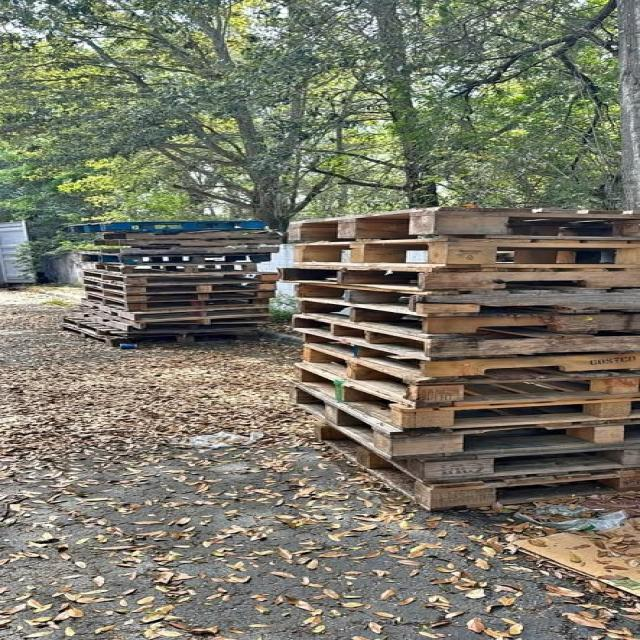non-igps: (301, 420, 640, 520), (282, 379, 640, 465), (280, 359, 640, 437), (291, 418, 640, 490), (284, 339, 640, 407), (277, 311, 640, 365), (301, 332, 640, 384), (291, 294, 640, 344), (278, 197, 640, 245), (282, 276, 640, 321), (274, 233, 640, 276), (266, 259, 640, 299), (72, 303, 278, 331), (56, 322, 268, 349), (74, 297, 274, 323), (57, 314, 262, 338), (83, 290, 273, 314), (80, 276, 281, 298), (76, 268, 287, 288), (50, 216, 271, 235), (81, 284, 281, 304), (76, 252, 276, 267), (92, 261, 263, 277), (96, 243, 286, 257), (100, 228, 282, 242), (89, 235, 286, 247)
